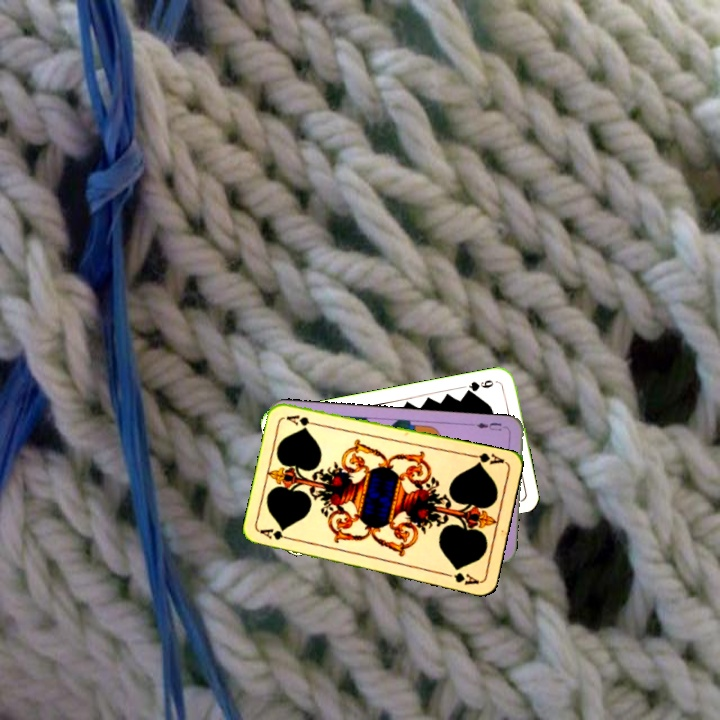EU: (468, 418, 504, 433)
G9: (461, 376, 496, 396)
GA: (466, 449, 507, 468), (256, 525, 297, 543)
